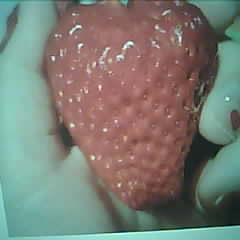straw-ripe: (47, 0, 218, 208)
